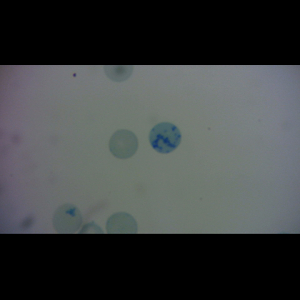aggregate reticulocyte: (148, 121, 183, 155)
erythrocyte: (108, 128, 139, 160), (51, 203, 82, 234)
